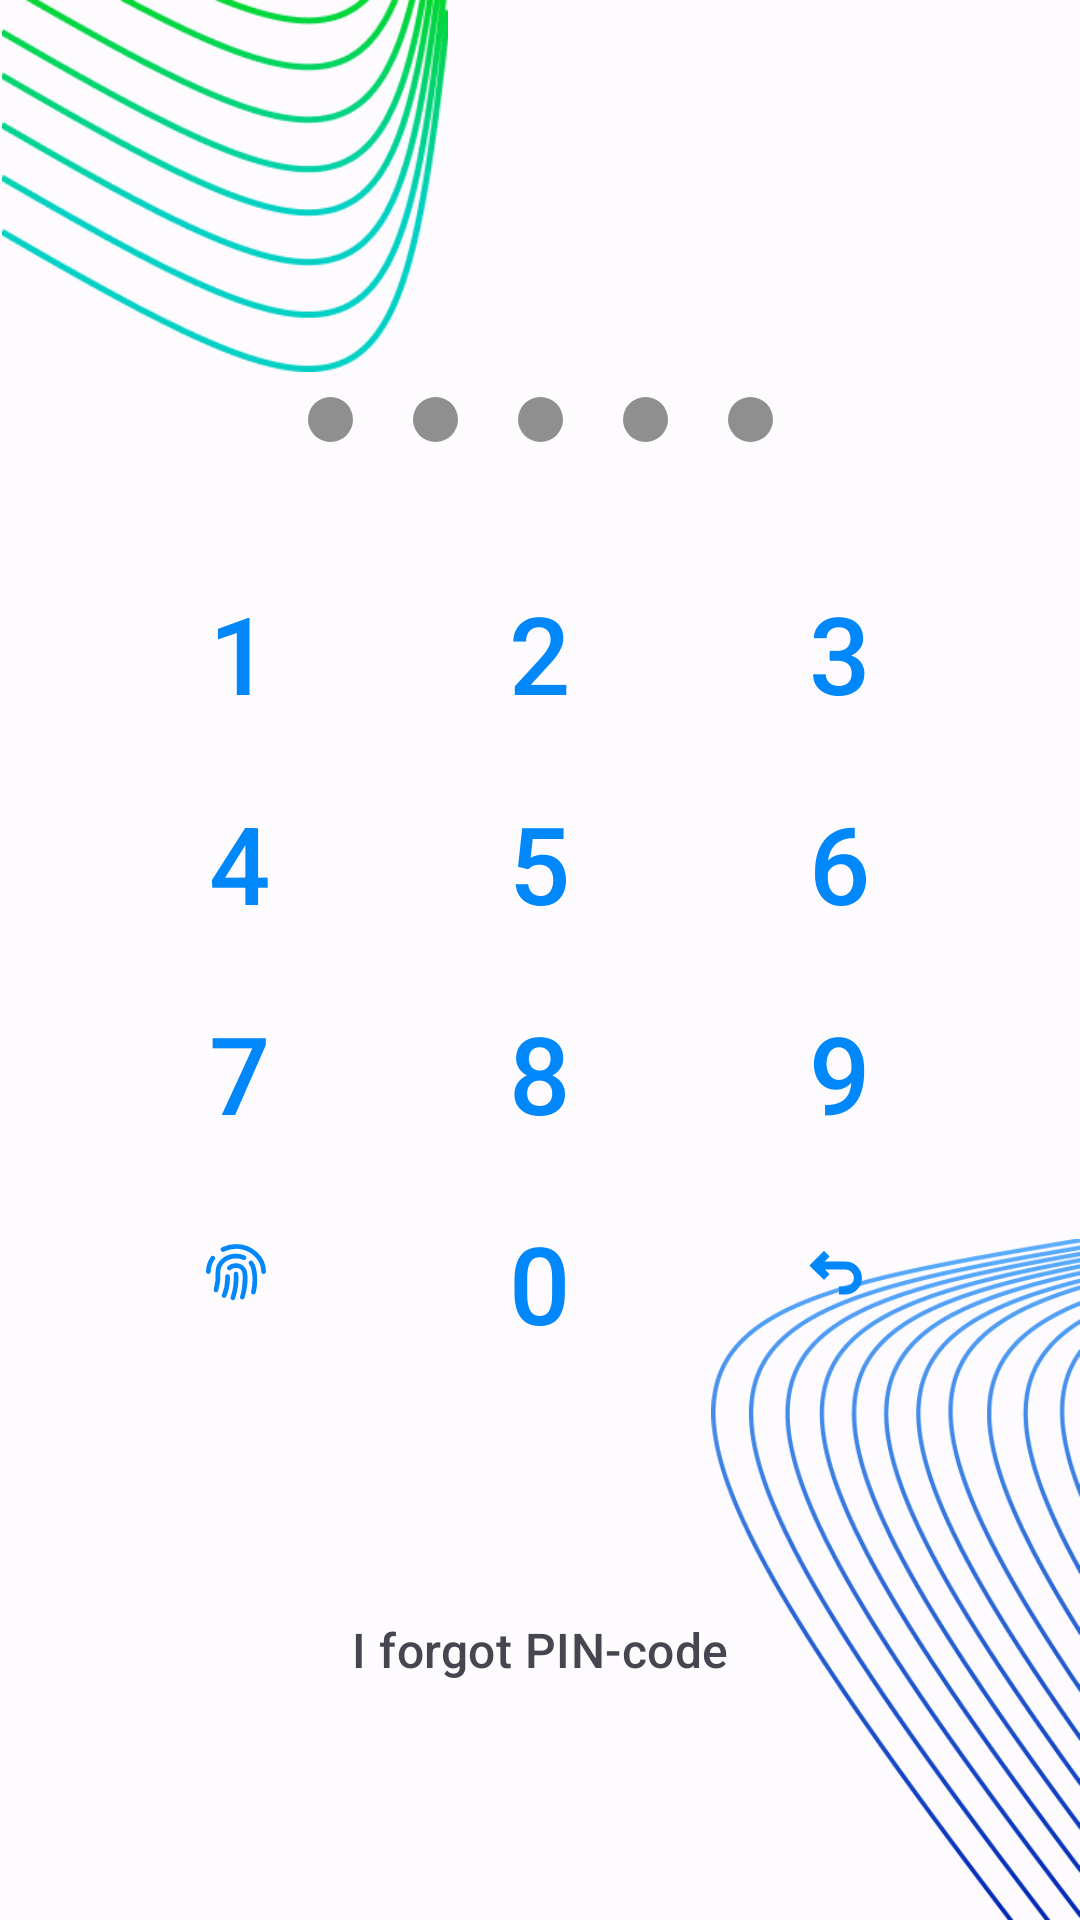

Icons on this 1080px x 1920px Android screen, each with the point to tap as point (x, y):
fingerprint: point (236, 1272)
